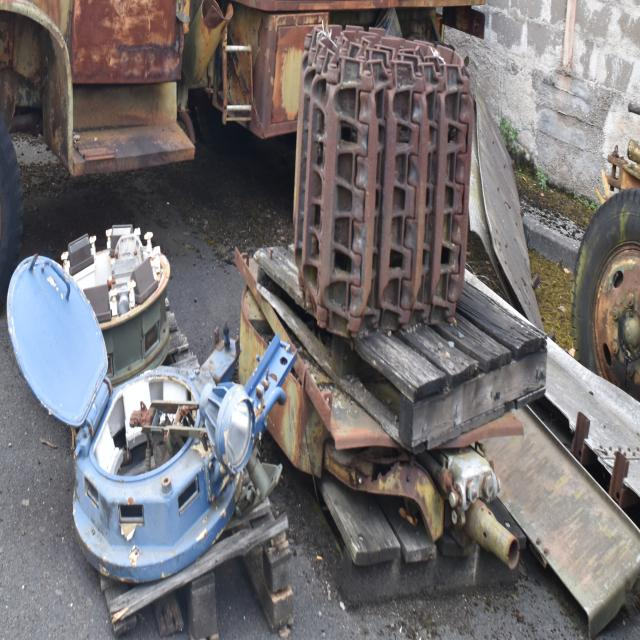entulho: (255, 222, 549, 447), (64, 323, 293, 588), (301, 11, 475, 328), (464, 395, 639, 640), (0, 2, 192, 182), (346, 309, 546, 456), (203, 0, 393, 140), (42, 228, 179, 379), (3, 252, 109, 428), (458, 106, 548, 309), (565, 181, 640, 408)
